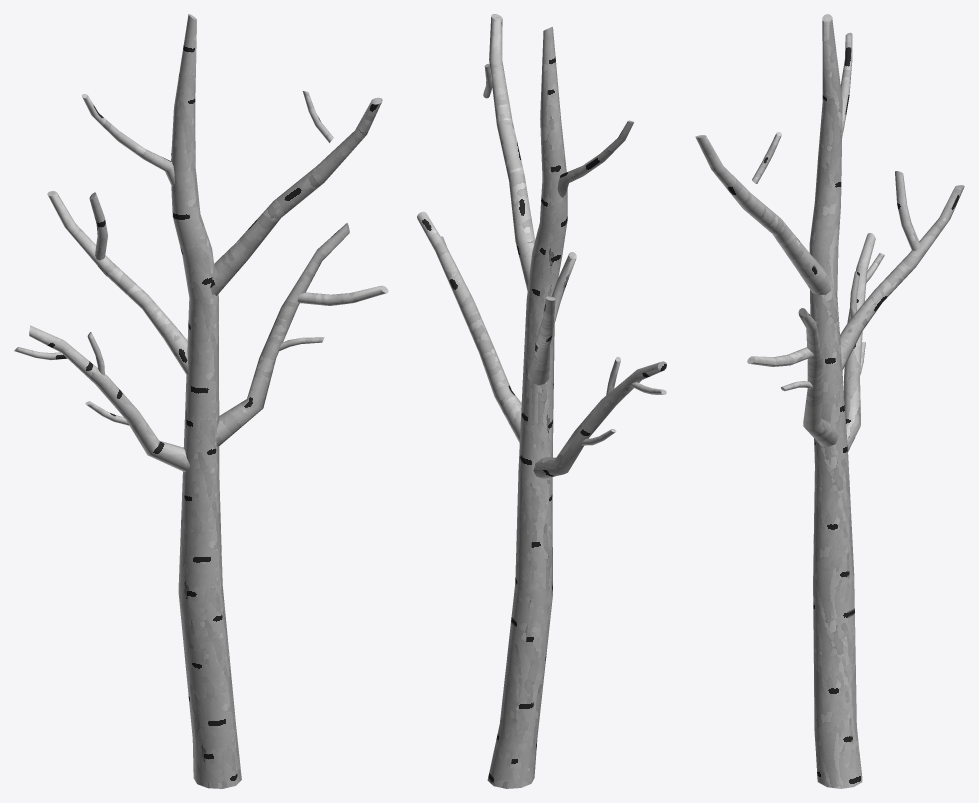
The model's file is tree_deadbirch_1.glb.
3 views of the same model, side by side, from view 1: azimuth 30°, elevation 25°; view 2: azimuth 150°, elevation 25°; view 3: azimuth 270°, elevation 25° (orthographic). The views are drawn at different scales.
Parts seen in each view (by area): view 1: DeadBirch_1; view 2: DeadBirch_1; view 3: DeadBirch_1.
Part boxes in pixels (x1=…): DeadBirch_1: x1=14, y1=14, x2=388, y2=788; DeadBirch_1: x1=417, y1=14, x2=666, y2=788; DeadBirch_1: x1=695, y1=14, x2=964, y2=788.
Size of the model in its own units: 2.88 by 7 by 2.28.
1 material, 1 textured.
